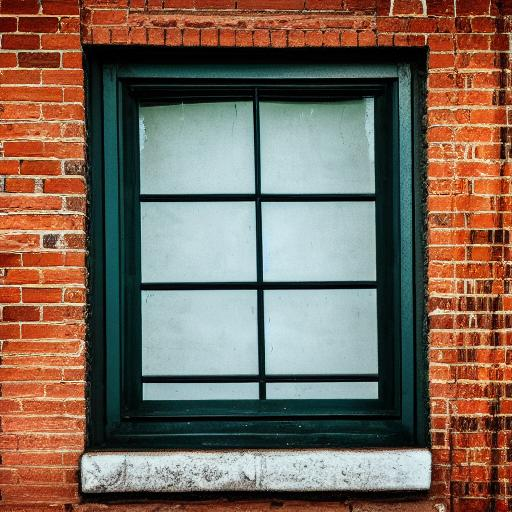Window: (79, 23, 433, 497)
